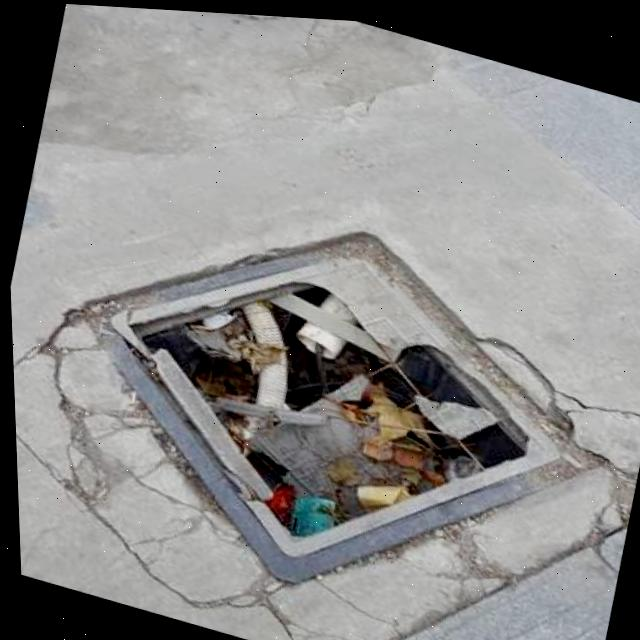manhole: (8, 144, 629, 640)
